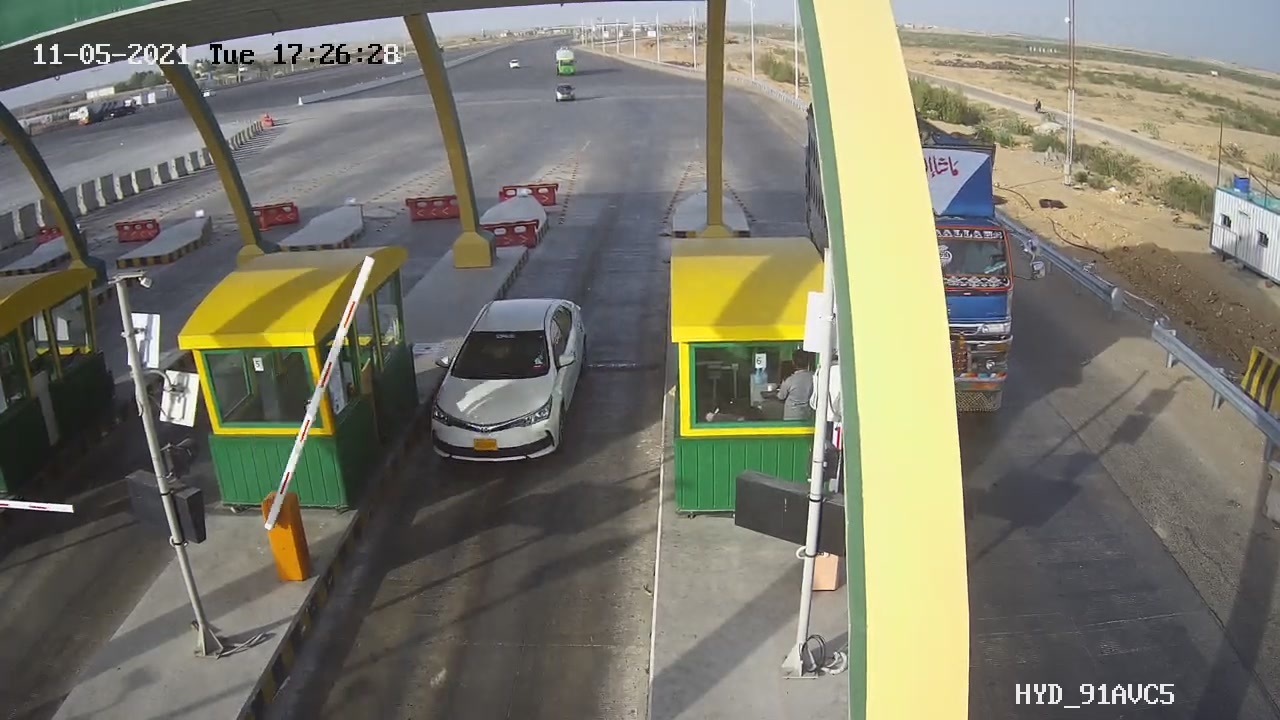F1: (404, 279, 605, 483)
